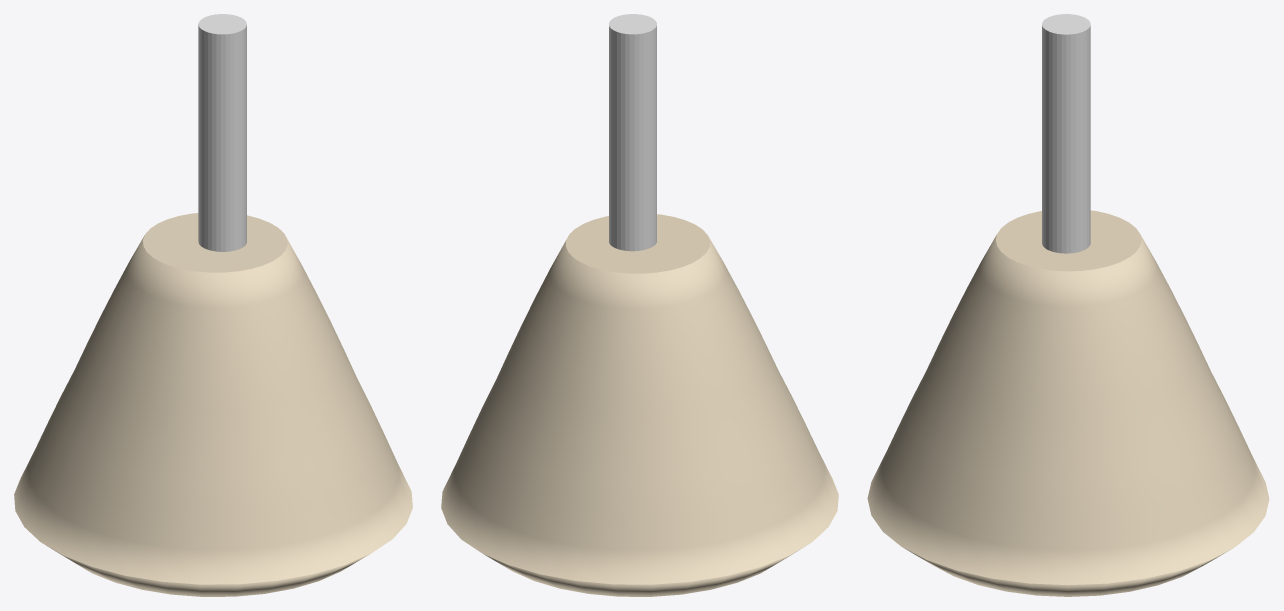
Rendered from lamp.glb.
3 views of the same model, side by side, from view 1: azimuth 30°, elevation 25°; view 2: azimuth 150°, elevation 25°; view 3: azimuth 270°, elevation 25° (orthographic).
Parts seen in each view (by area): view 1: Cylinder.097, Cylinder.098; view 2: Cylinder.097, Cylinder.098; view 3: Cylinder.097, Cylinder.098.
Part boxes in pixels (x1=…): Cylinder.097: x1=14, y1=213, x2=412, y2=596; Cylinder.098: x1=198, y1=14, x2=246, y2=251; Cylinder.097: x1=441, y1=214, x2=838, y2=596; Cylinder.098: x1=609, y1=14, x2=656, y2=251; Cylinder.097: x1=867, y1=210, x2=1269, y2=596; Cylinder.098: x1=1042, y1=14, x2=1090, y2=253.
Bounding box in the file's own units: 0.0133 × 0.0186 × 0.0133.
